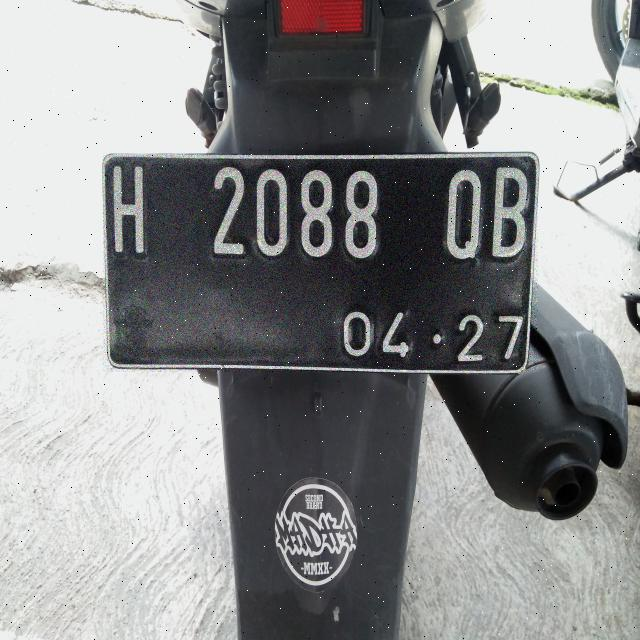plate: (104, 154, 537, 371)
